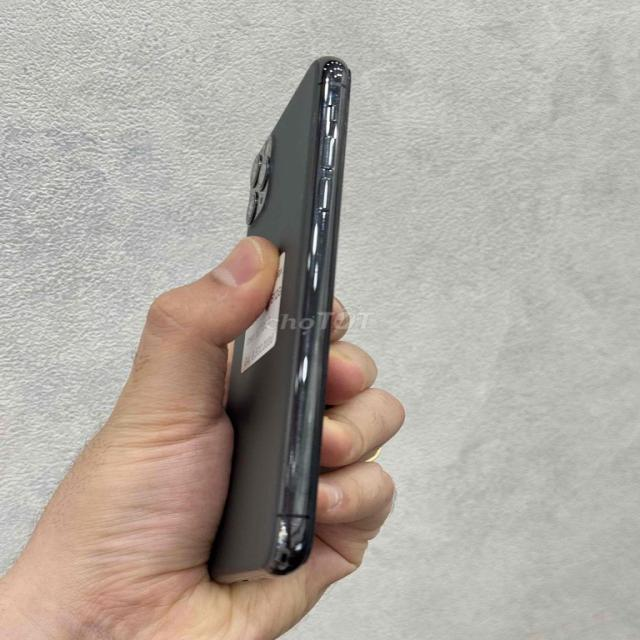gen_11: (200, 54, 356, 587)
